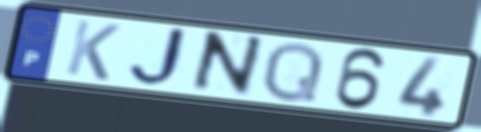4: (395, 54, 451, 120)
6: (332, 46, 387, 112)
J: (126, 26, 197, 89)
K: (62, 17, 124, 84)
N: (185, 29, 268, 100)
Q: (258, 40, 327, 104)
